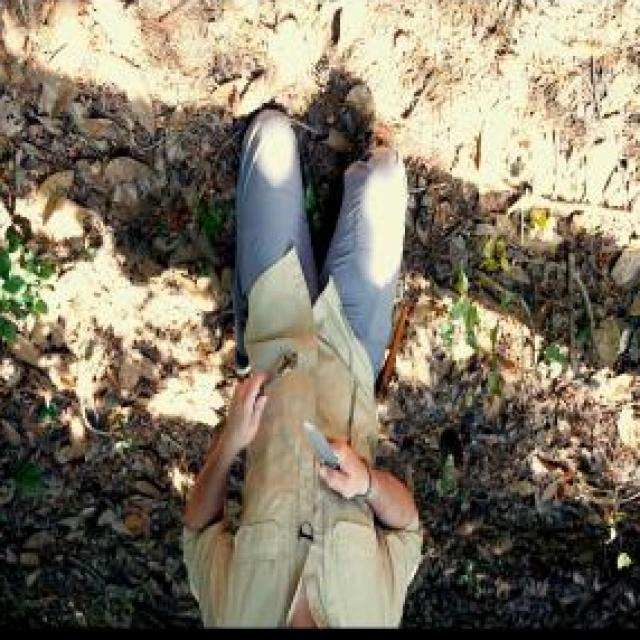knife: (301, 417, 362, 492)
